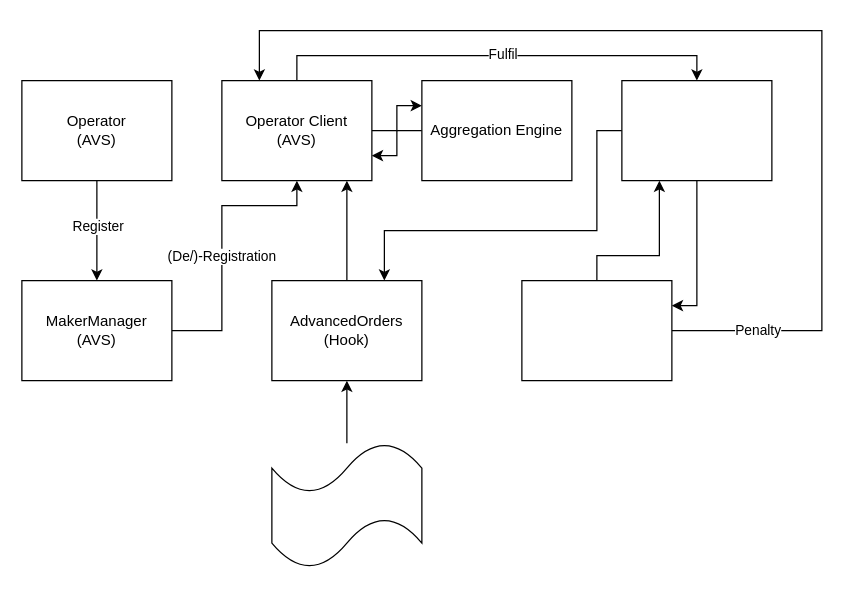
Image size: 854x590. Some labels were removed from this diagram. The shapes that lost their labels are listed below. From the top down, each one's centre as x and y in pixels, then its label:
At (696,130): "OrderSettler".
At (596,330): "Verifier".
At (346,505): "Swap Activity (V4)".
